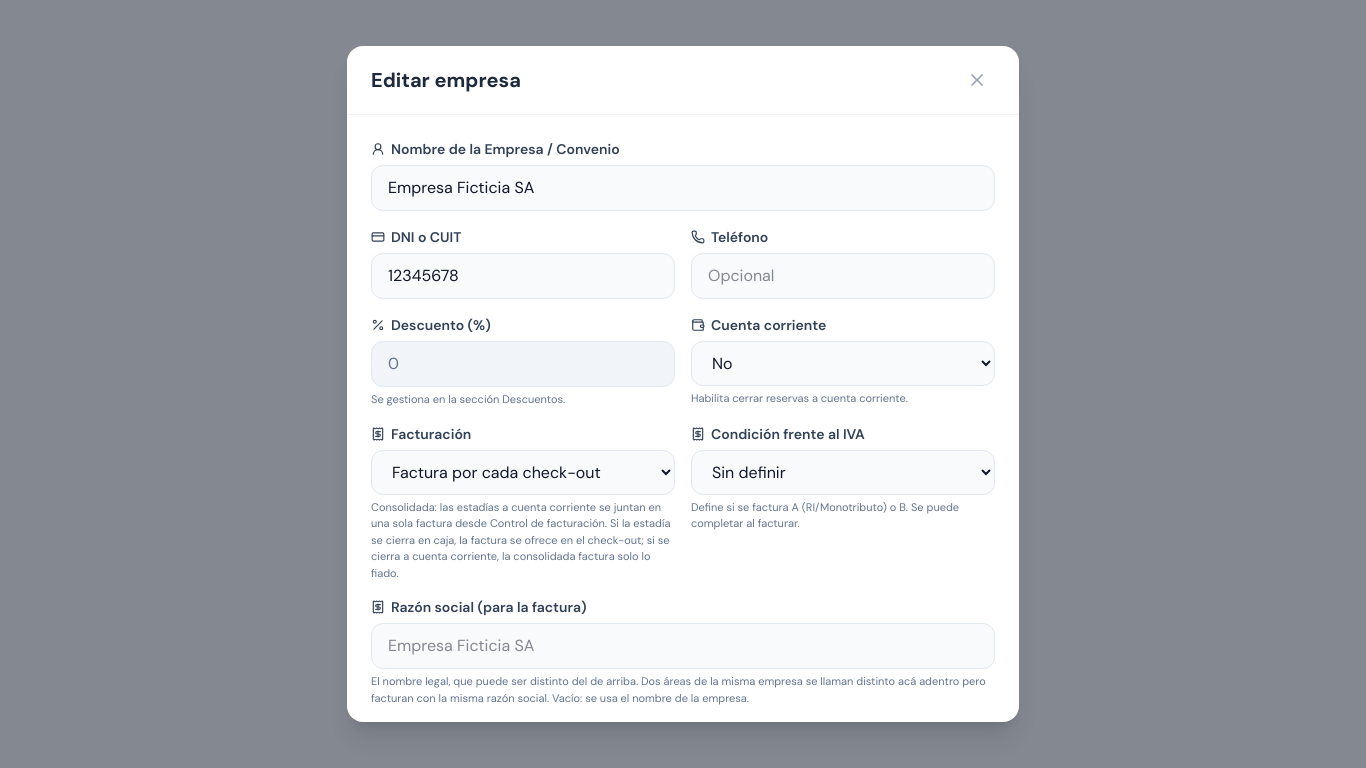
Scenario: AssociatedClientModal: la consolidada de una empresa pide CUIT › con un DNI, poner Sí deja Consolidada y la nota sale en ámbar pidiendo el CUIT
Select "Sí — habilitada a fiar" in the dropdown labelled "Cuenta corriente" at point(843, 364), box [691,341,995,386]
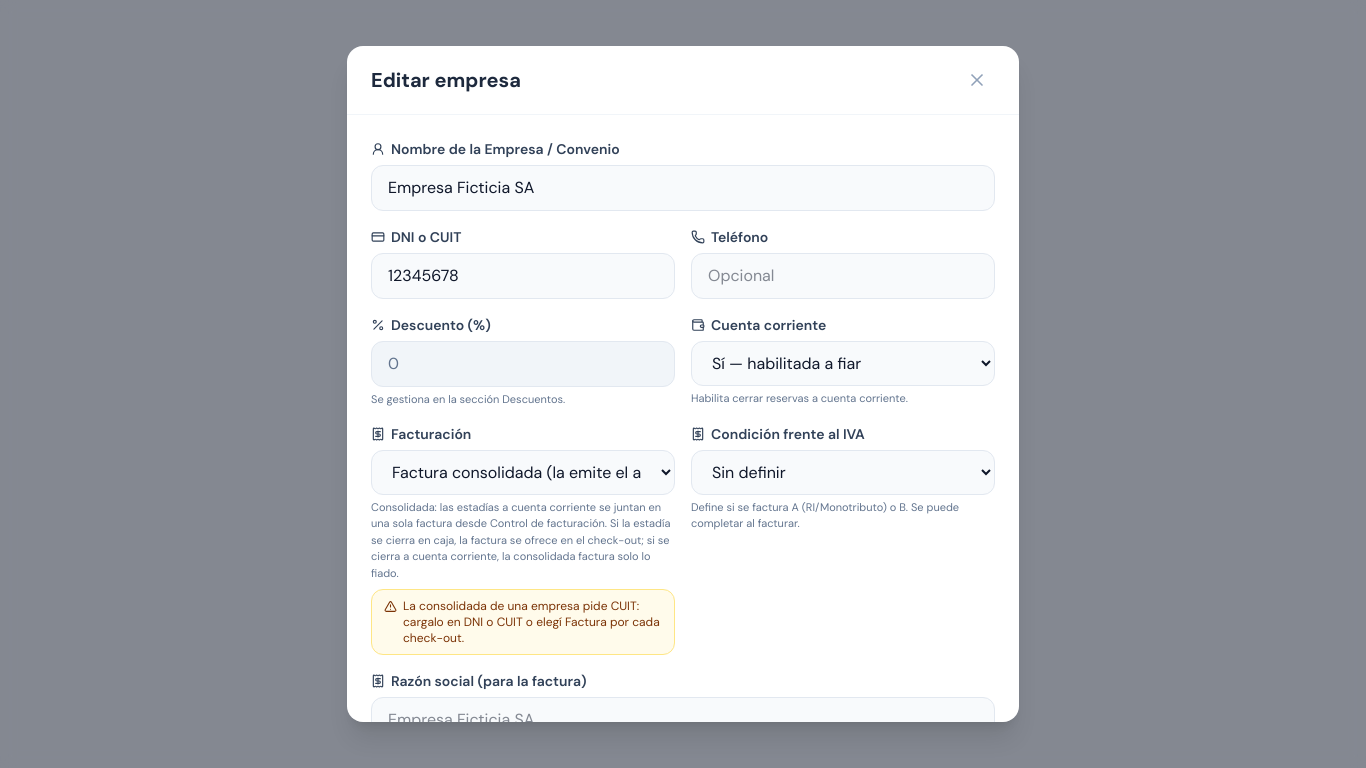
expect the dropdown labelled "Facturación" shows "Factura consolidada (la emite el admin)": met, box [371,450,675,495]
expect the text "La consolidada de una empresa pide CUIT" shows "La consolidada de una empresa pide CUIT: cargalo en DNI o CUIT o elegí Factura por cada check-out.": met, box [403,598,660,646]
